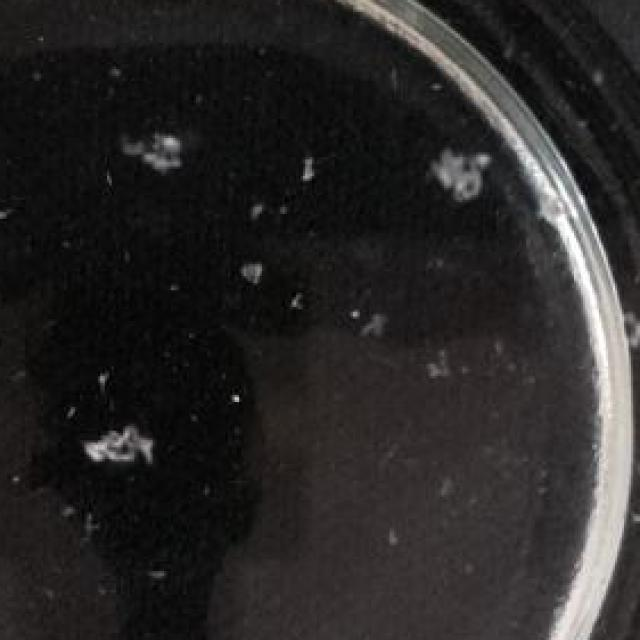Microplastic: (412, 126, 501, 205), (123, 110, 191, 198), (77, 412, 162, 476), (230, 240, 273, 312), (280, 143, 324, 202), (426, 345, 460, 395), (622, 307, 640, 364), (367, 304, 387, 350), (0, 195, 18, 233)
